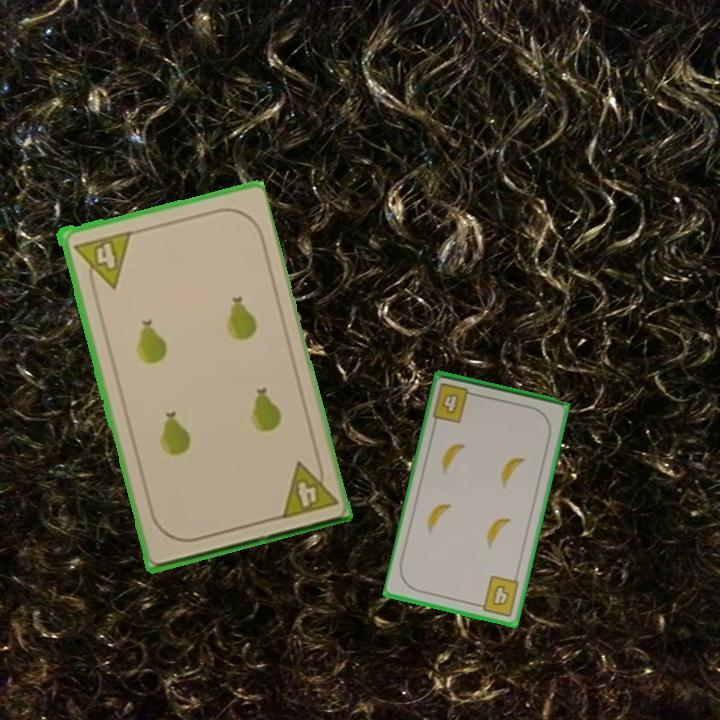4b: (429, 379, 480, 426), (472, 572, 522, 619)
4p: (276, 452, 340, 522), (68, 227, 133, 295)
